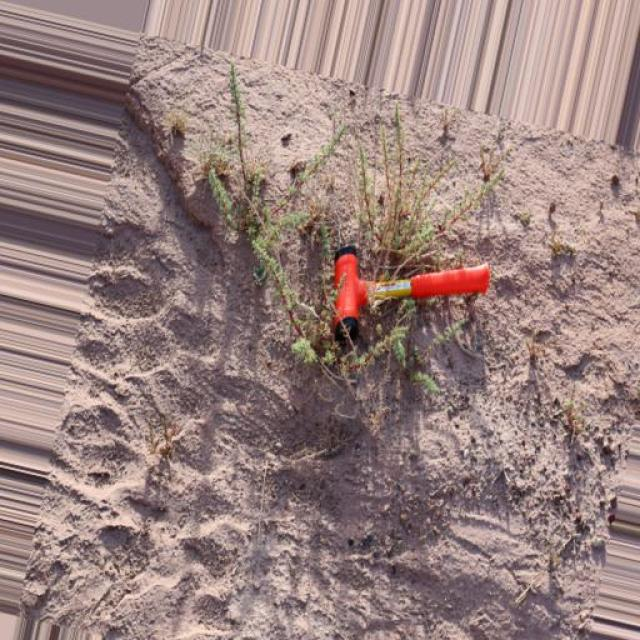mallet: (329, 243, 491, 345)
